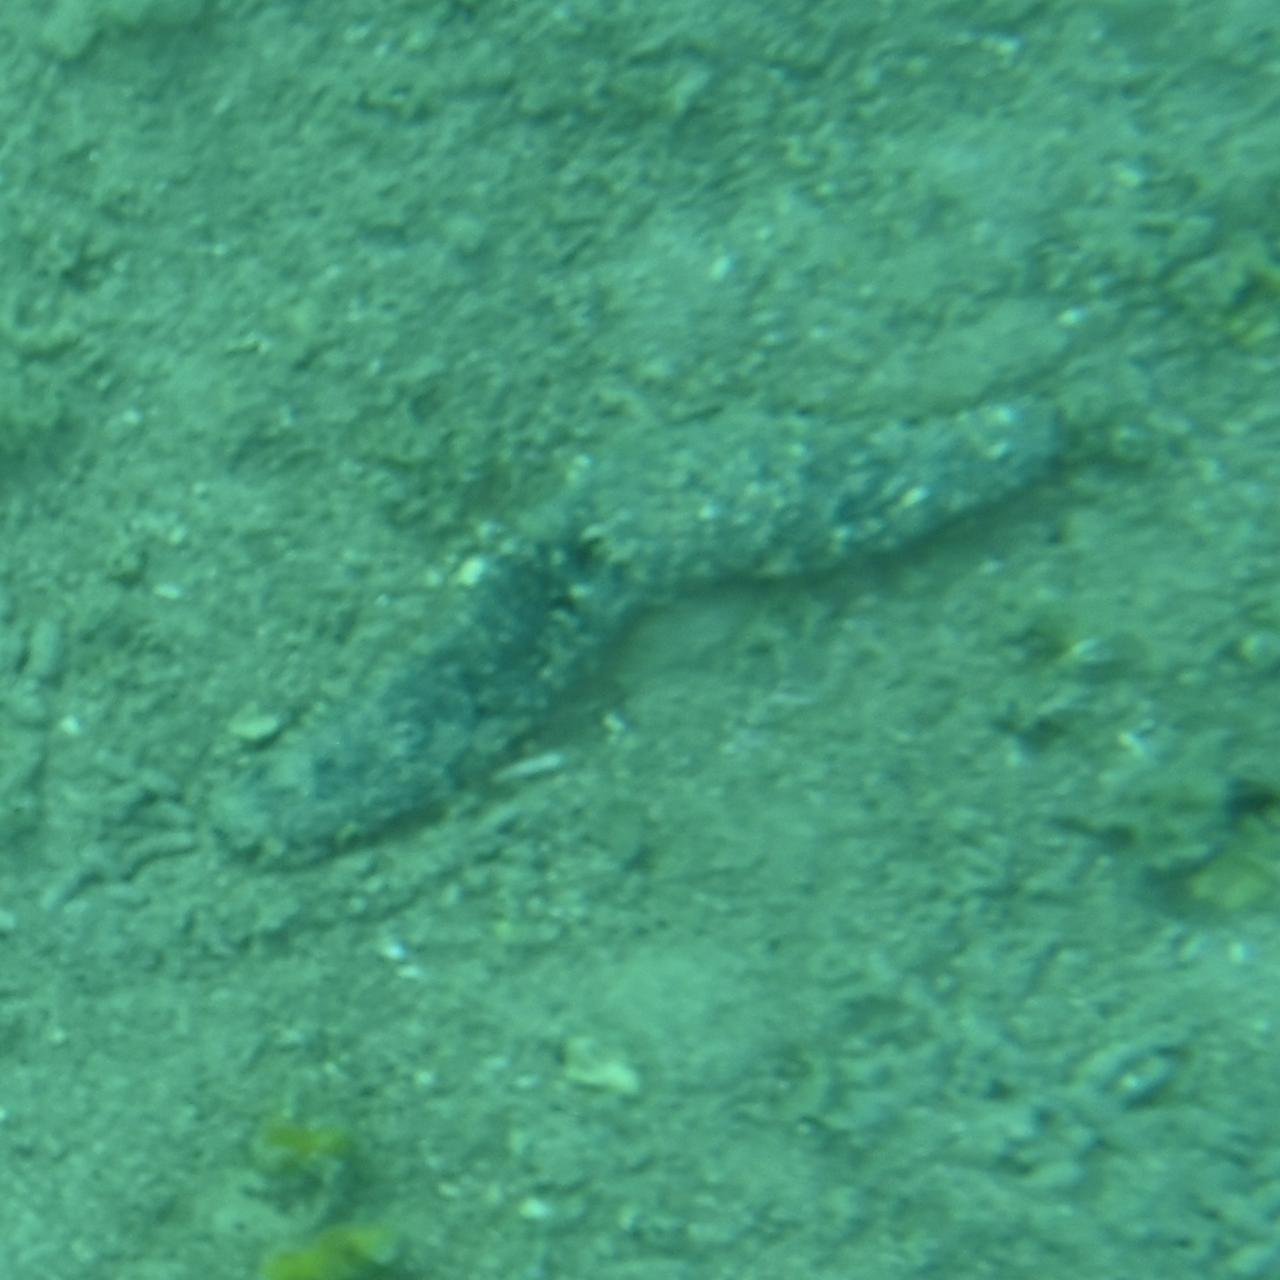Holothuria tubulosa: (222, 416, 1058, 864)
